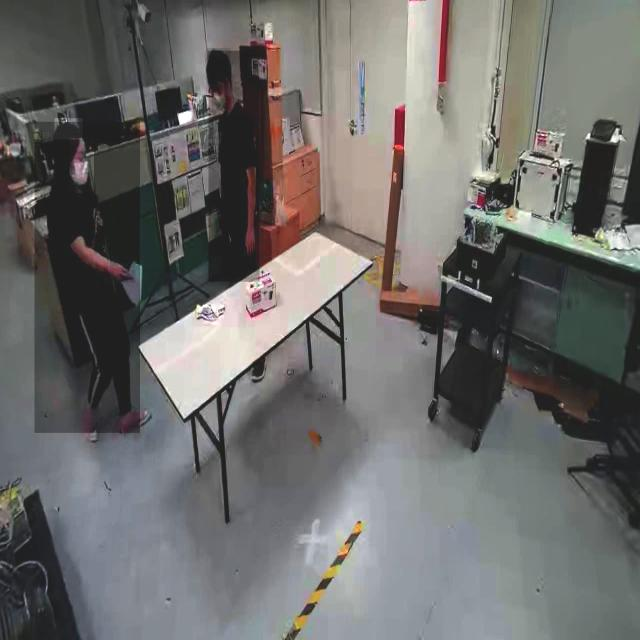face_mask: (70, 138, 94, 193), (212, 79, 228, 120)
hand_noglove: (110, 258, 136, 284), (245, 226, 258, 260)
head_nohelmet: (206, 48, 231, 73), (54, 118, 82, 140)
person: (34, 122, 140, 434), (208, 50, 260, 282)
shoes: (118, 402, 152, 441), (78, 402, 103, 448)
